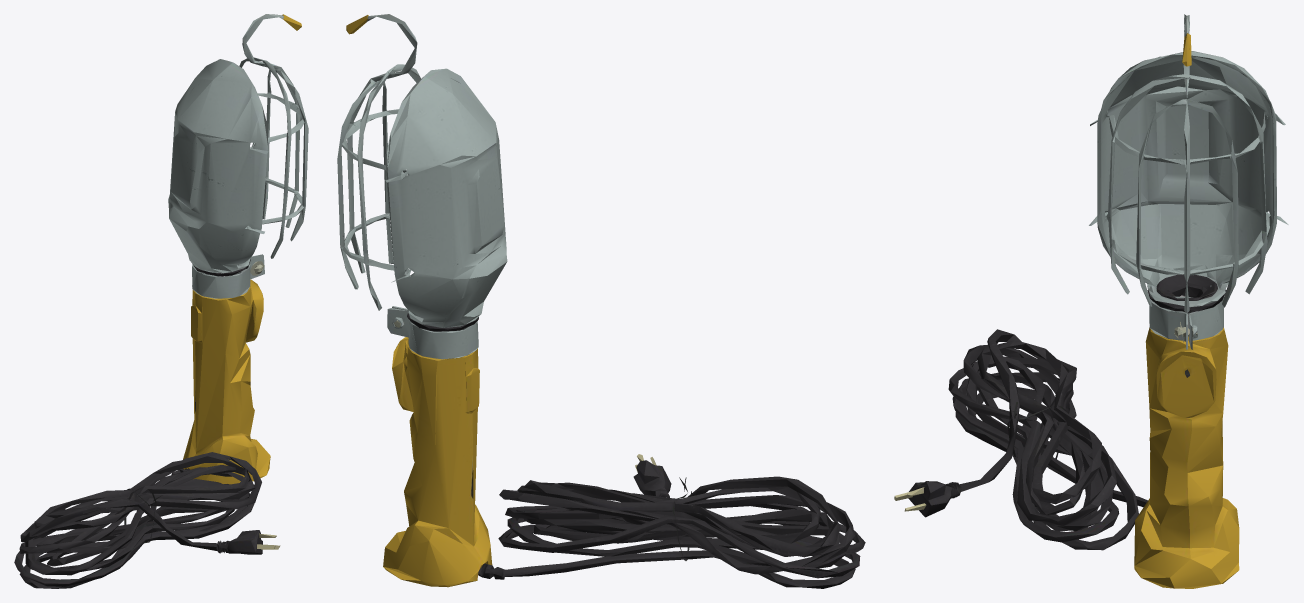
The model's file is night_inspection_lamp.glb.
The picture shows the model from 3 angles, left to right: view 1: azimuth 30°, elevation 25°; view 2: azimuth 150°, elevation 25°; view 3: azimuth 270°, elevation 25°; orthographic projection. The views are drawn at different scales.
Parts seen in each view (by area): view 1: night_inspection_lamp; view 2: night_inspection_lamp; view 3: night_inspection_lamp.
Boxes of the visible parts, left/top/right/bottom form: night_inspection_lamp: left=14, top=14, right=308, bottom=588; night_inspection_lamp: left=337, top=14, right=865, bottom=588; night_inspection_lamp: left=894, top=14, right=1288, bottom=588.
Bounding box in the file's own units: 0.299 × 0.3635 × 0.2265.
Materials: 2 (2 with a texture image).
